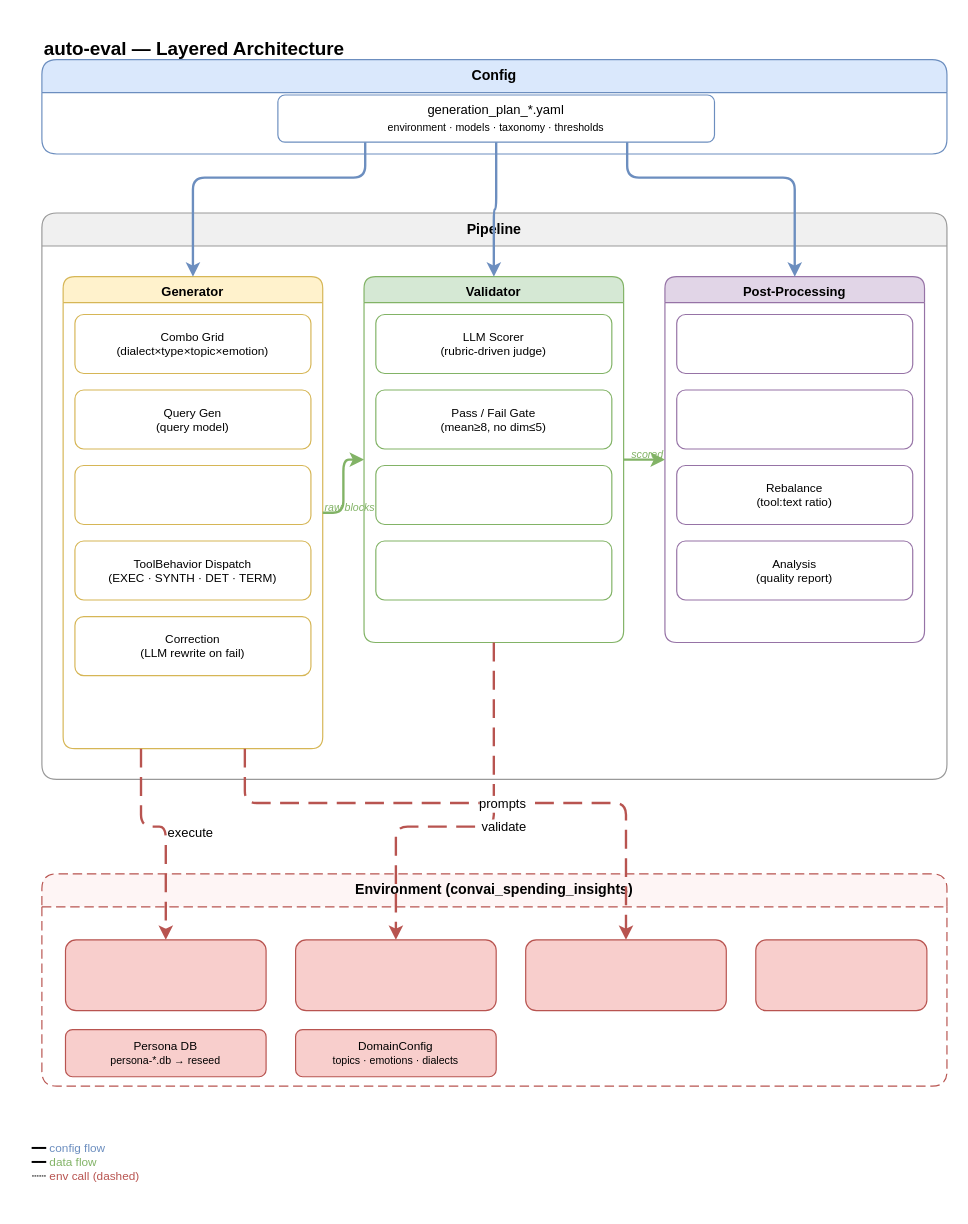
The diagram is 968 pixels wide and 1224 high, and some of its shapes have lost their labels. The centre of each missing label's shape, as x and y in pixels:
"Answer Decision (tool_choice=auto)" goes at point 192,494.
"Assemble Blocks (stitch → conversations)" goes at point 794,343.
"Dedup + Filter" goes at point 493,570.
"Fix + Re-score (LLM rewrite → re-judge)" goes at point 493,494.
"Prompts context · query gen validation · fix" goes at point 625,975.
"Split (train / val / eval)" goes at point 794,419.
"Tool Execution ConciergeDBExecutor (EXECUTE · SYNTHESIZE)" goes at point 165,975.
"Tool Schema ToolSpec + ToolBehavior Guardrailing" goes at point 841,975.
"Validation Rules validate_tool_call() rubric YAML" goes at point 395,975.
